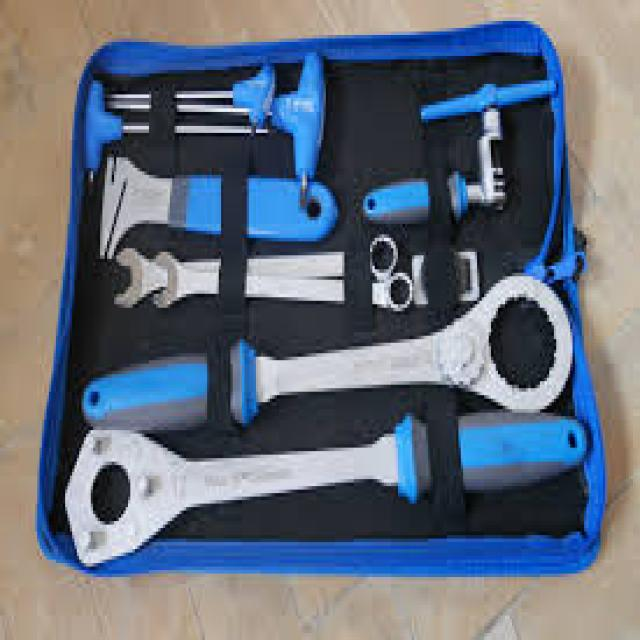tool_box: (39, 23, 605, 575)
